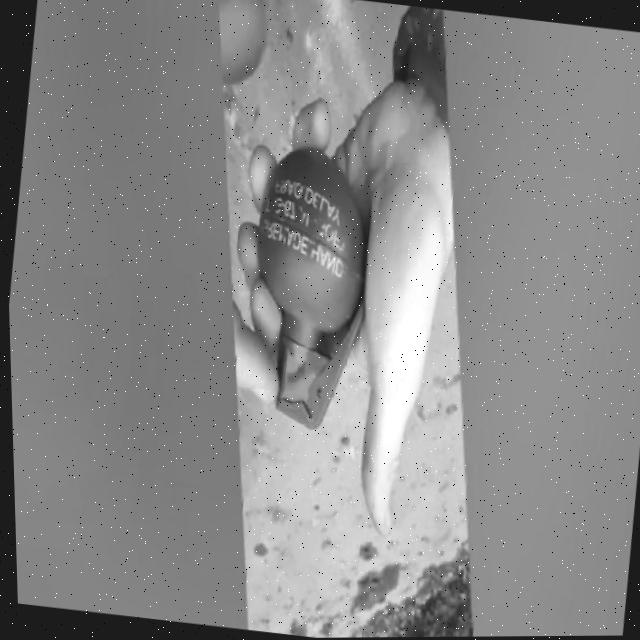grenade: (220, 139, 410, 438)
